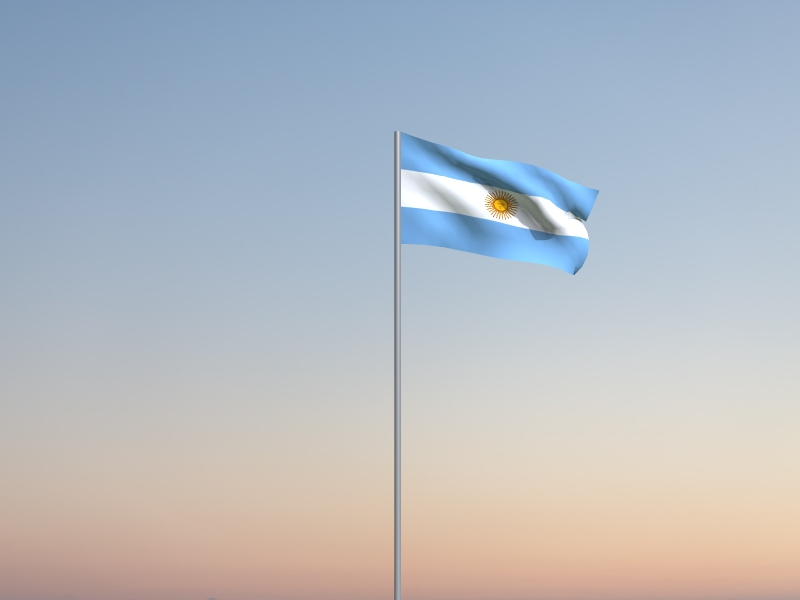ar: (401, 133, 602, 277)
